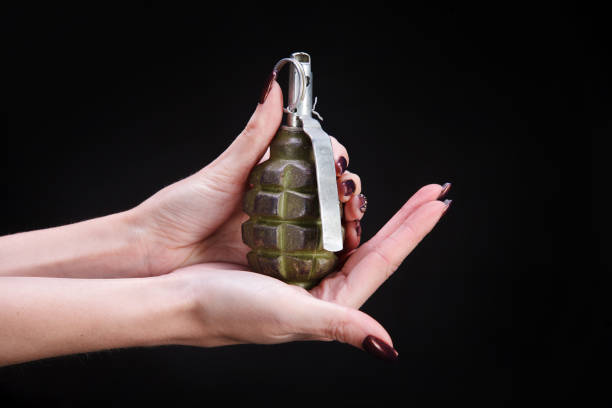e1: (247, 55, 350, 289)
